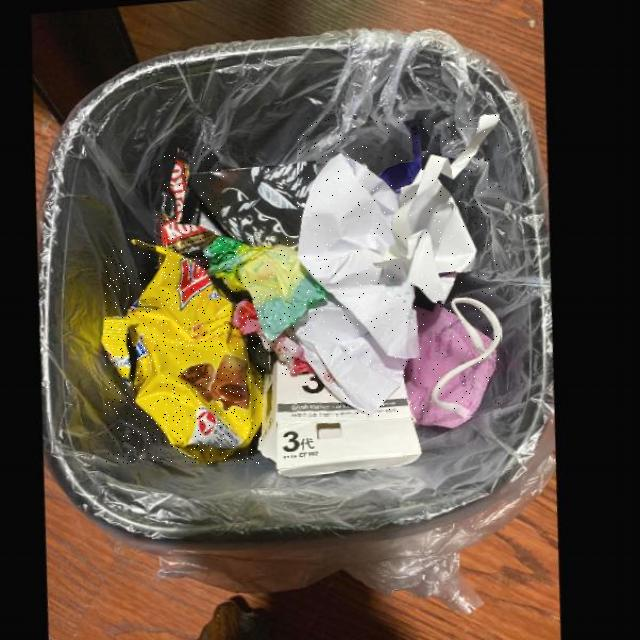paper: (298, 115, 501, 416), (263, 361, 428, 477)
wrapper: (105, 239, 269, 464), (207, 236, 333, 341), (156, 148, 225, 252), (236, 300, 319, 375)
